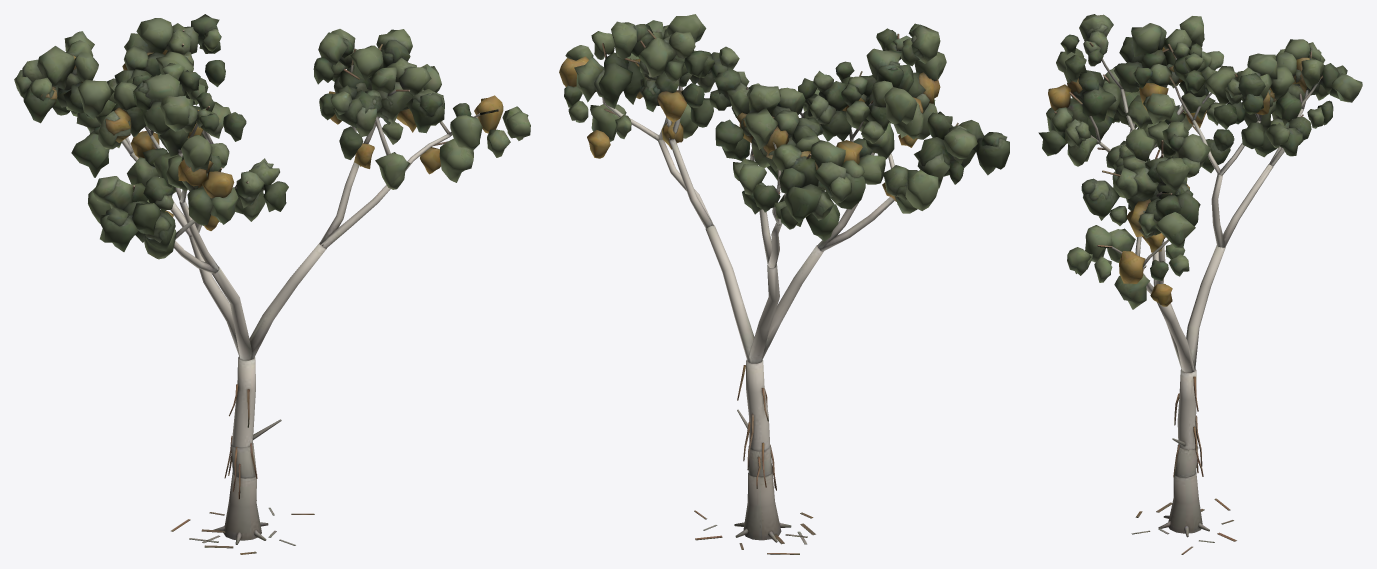
The model's file is gum_tree_a.glb.
The picture shows the model from 3 angles, left to right: view 1: azimuth 30°, elevation 25°; view 2: azimuth 150°, elevation 25°; view 3: azimuth 270°, elevation 25°; orthographic projection. The views are drawn at different scales.
Visible parts, largest first — view 1: gum_tree_a; view 2: gum_tree_a; view 3: gum_tree_a.
Part boxes in pixels (x1,y1,x2,y2): gum_tree_a: [14, 14, 530, 554]; gum_tree_a: [559, 14, 1009, 554]; gum_tree_a: [1038, 14, 1362, 554].
Size of the model in its own units: 18.03 by 19.8 by 12.65.
Materials: 1 (1 with a texture image).
